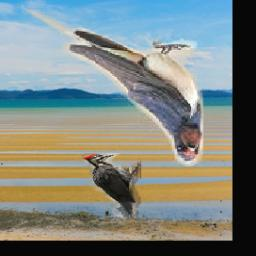Swallow: (26, 11, 203, 167)
Woodpecker: (83, 153, 142, 218)
